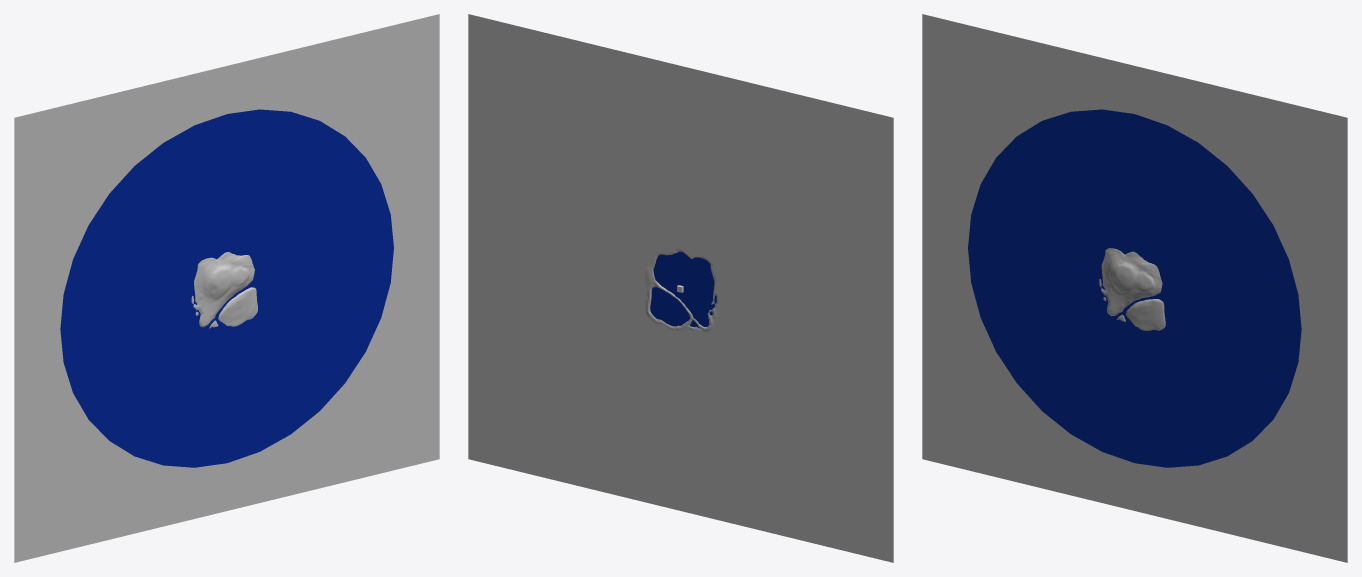
The model's file is wz_terrain_island_mega.obj.
The picture shows the model from 3 angles, left to right: view 1: azimuth 30°, elevation 25°; view 2: azimuth 150°, elevation 25°; view 3: azimuth 330°, elevation 25°; orthographic projection.
Parts seen in each view (by area): view 1: g_terrain, g_ocean; view 2: g_terrain, g_ocean; view 3: g_terrain, g_ocean.
Boxes of the visible parts, x1=… form: g_terrain: x1=14, y1=14, x2=439, y2=562; g_ocean: x1=60, y1=109, x2=393, y2=467; g_terrain: x1=468, y1=14, x2=893, y2=562; g_ocean: x1=650, y1=251, x2=716, y2=328; g_terrain: x1=922, y1=14, x2=1347, y2=562; g_ocean: x1=968, y1=109, x2=1301, y2=467.
Bounding box in the file's own units: 522240 × 522240 × 10788.
